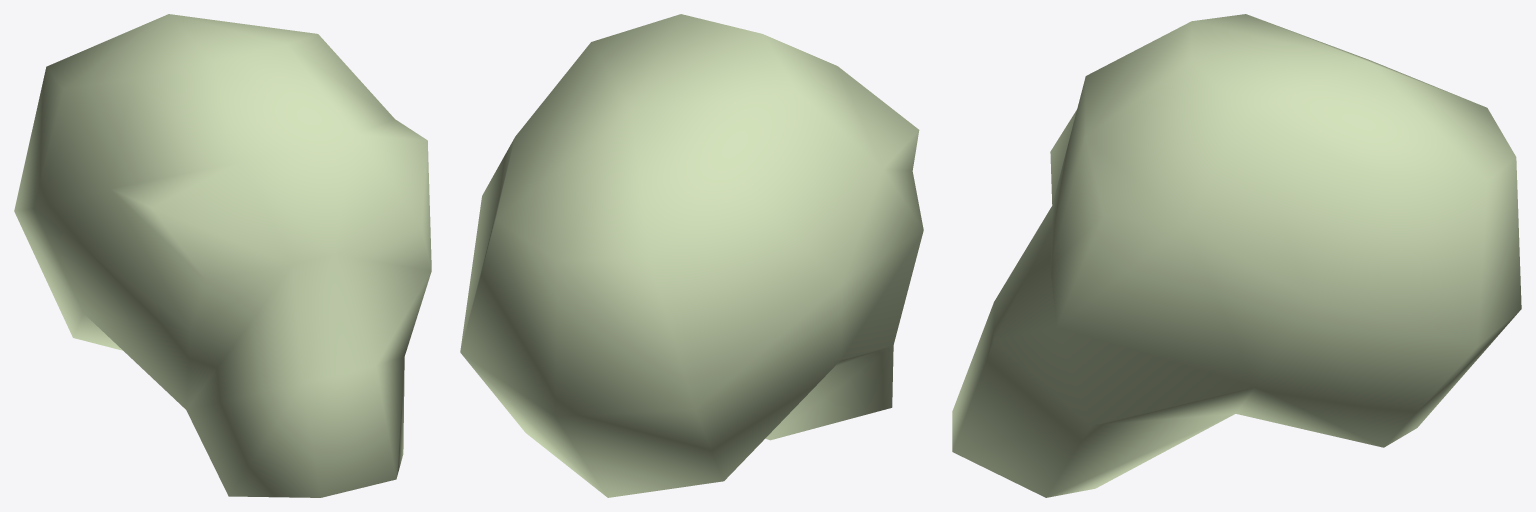
3 views of the same model, side by side, from view 1: azimuth 30°, elevation 25°; view 2: azimuth 150°, elevation 25°; view 3: azimuth 270°, elevation 25° (orthographic). The views are drawn at different scales.
Visible parts, largest first — view 1: Object39; view 2: Object39; view 3: Object39.
Part boxes in pixels (<box>): Object39: <box>14,14,431,497</box>; Object39: <box>460,14,923,497</box>; Object39: <box>952,14,1521,497</box>.
Size of the model in its own units: 23.7 by 28.44 by 32.77.
